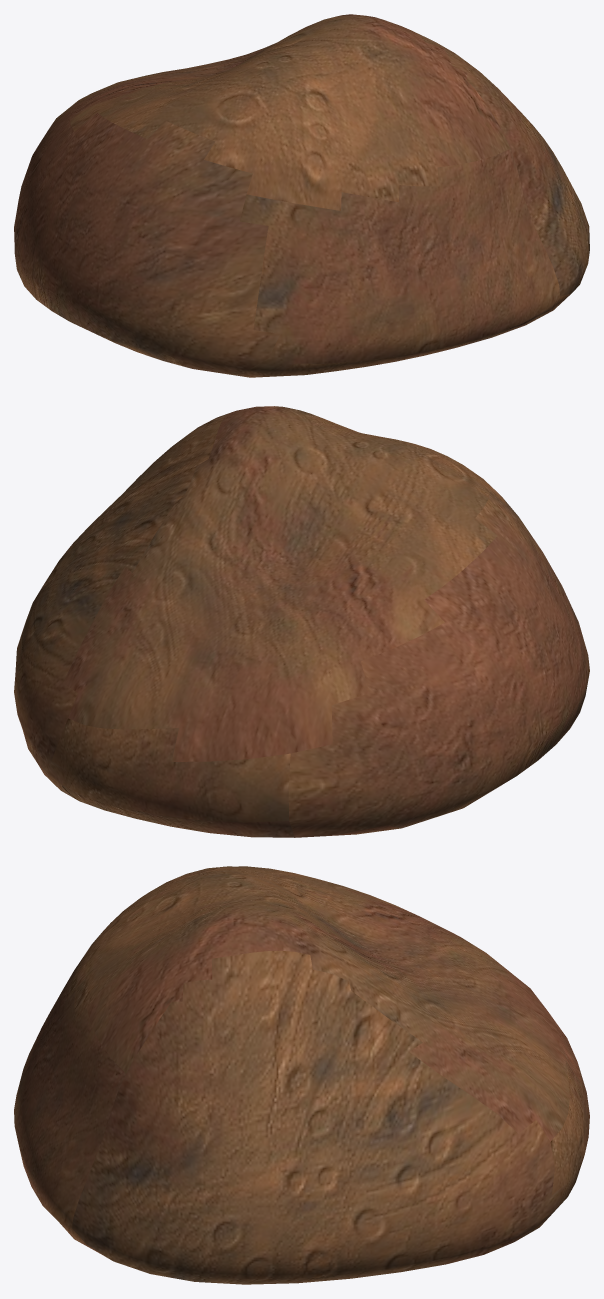
Rendered from MarsRock7.obj.
3 views of the same model, one above another, from view 1: azimuth 30°, elevation 25°; view 2: azimuth 150°, elevation 25°; view 3: azimuth 270°, elevation 25° (orthographic). The views are drawn at different scales.
Parts seen in each view (by area): view 1: Rocks8; view 2: Rocks8; view 3: Rocks8.
Part boxes in pixels (x1,y1,x2,y2): Rocks8: (14, 14, 589, 377); Rocks8: (14, 406, 589, 837); Rocks8: (14, 866, 589, 1284).
Bounding box in the file's own units: 0.8049 × 0.4397 × 0.7673.
Materials: 1 (1 with a texture image).
